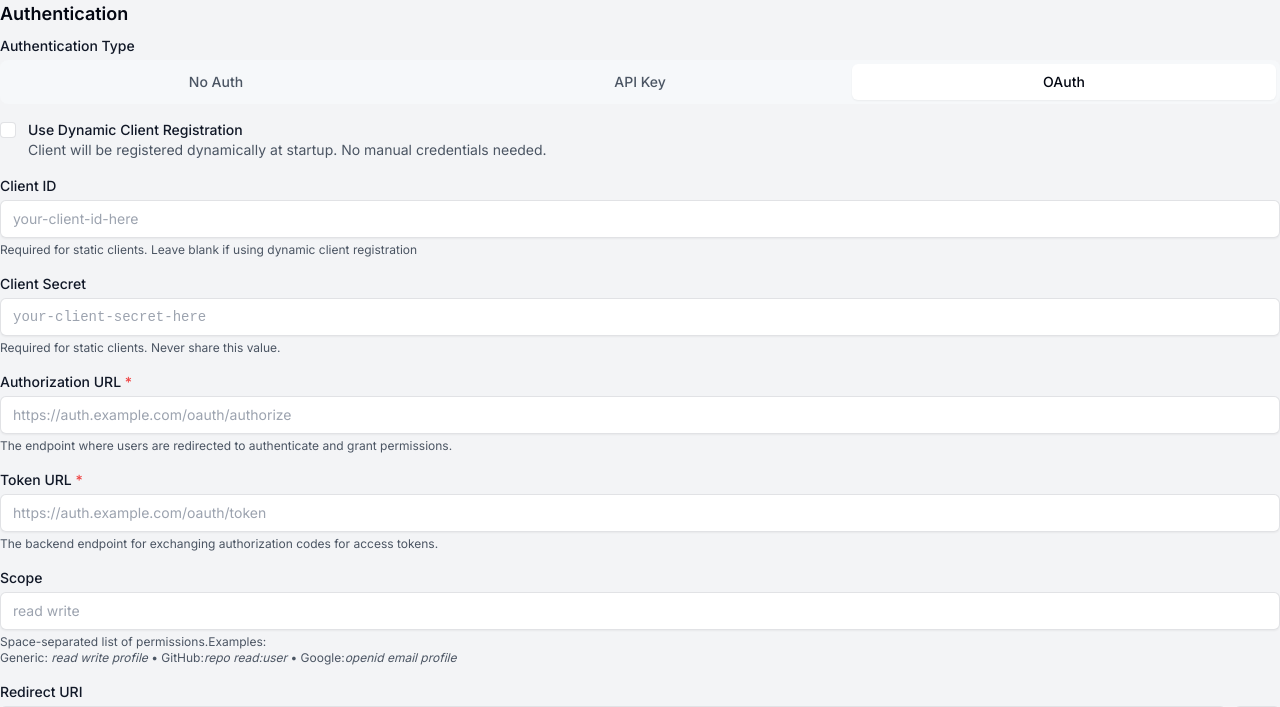
it: AuthenticationConfig › switching to API Key keeps an existing source and header format
This screenshot has width=1280, height=707.
Click the button "API Key" at (640, 82), box [428,64,852,100]
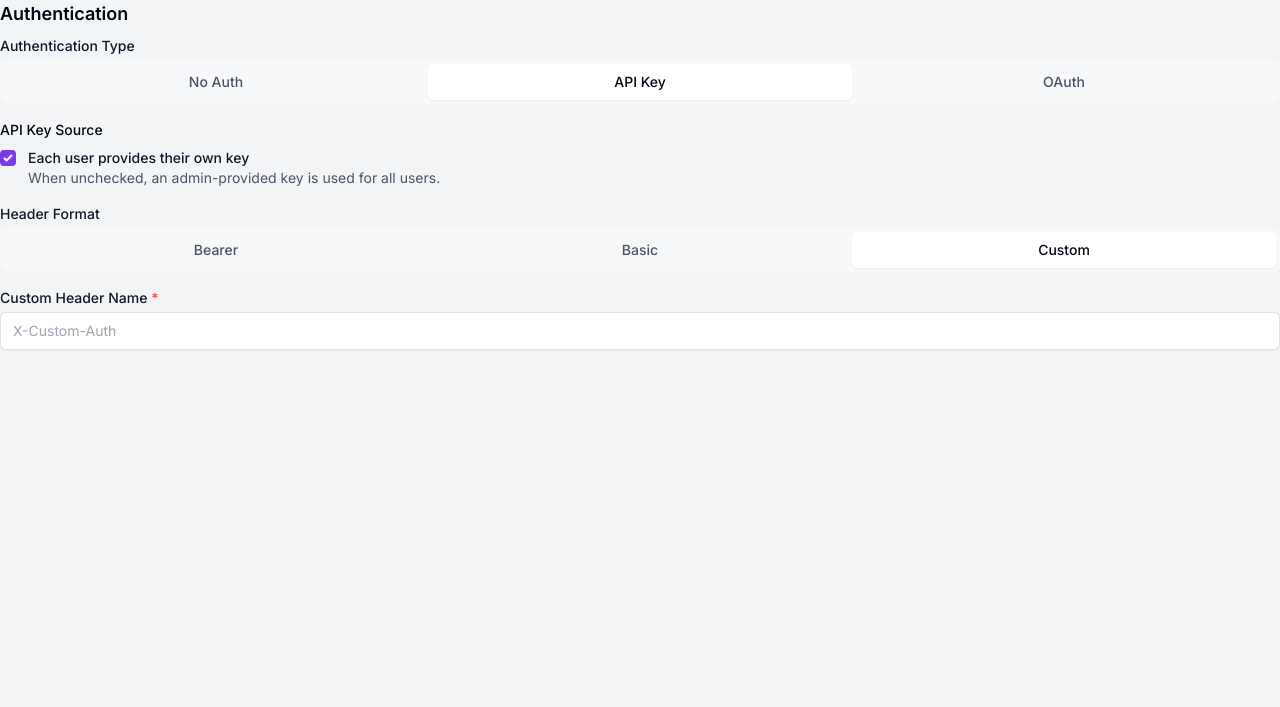
expect the checkbox is checked: met, box [0,150,16,166]
